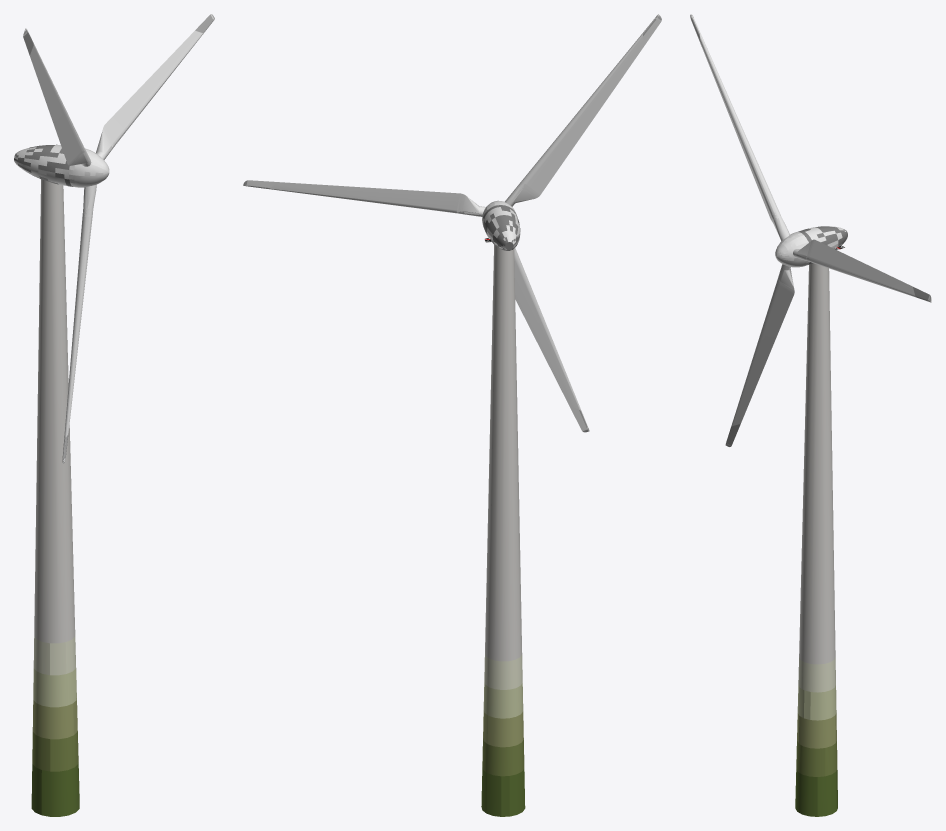
The model's file is Enercon_E70_70m.gltf.
The picture shows the model from 3 angles, left to right: view 1: azimuth 30°, elevation 25°; view 2: azimuth 150°, elevation 25°; view 3: azimuth 270°, elevation 25°; orthographic projection. The views are drawn at different scales.
Parts seen in each view (by area): view 1: root; view 2: root; view 3: root.
Part boxes in pixels (<box>): root: <box>14,14,214,816</box>; root: <box>243,14,661,816</box>; root: <box>690,14,931,816</box>.
Size of the model in its own units: 38.04 by 94.59 by 27.56.
13 materials, 2 textured.
